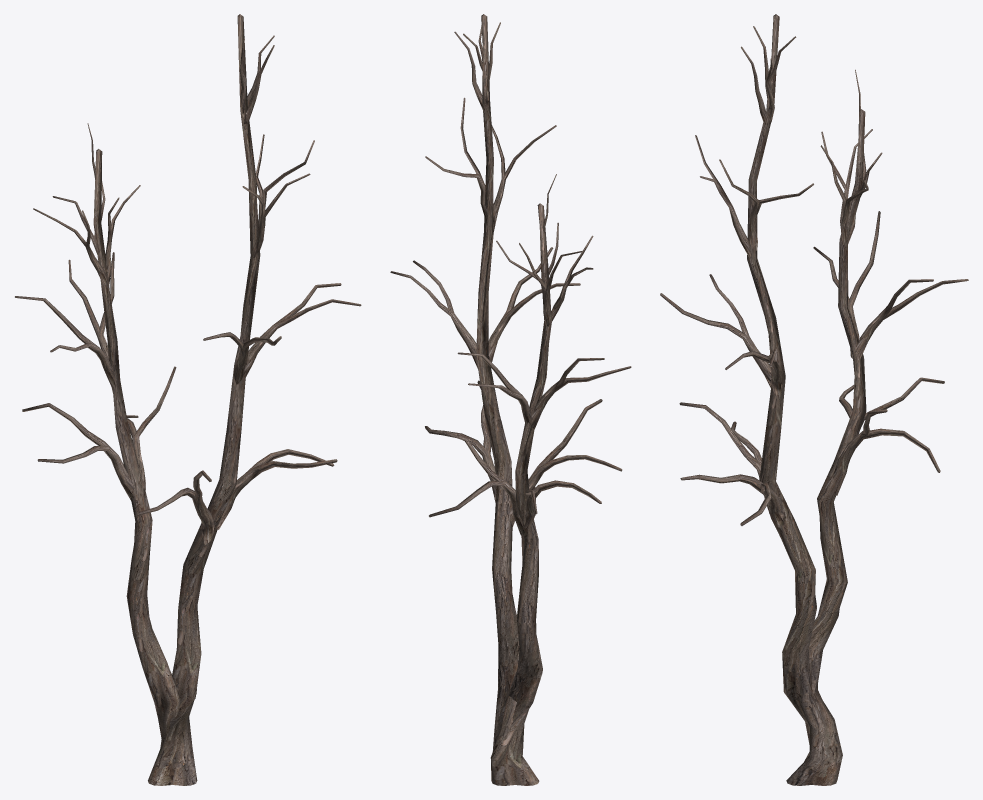
The model's file is tree5.obj.
3 renders of one model, left to right at view 1: azimuth 30°, elevation 25°; view 2: azimuth 150°, elevation 25°; view 3: azimuth 270°, elevation 25°, orthographic. The views are drawn at different scales.
Parts seen in each view (by area): view 1: tree; view 2: tree; view 3: tree.
Boxes of the visible parts, bbox=[...] form: tree: bbox=[15, 14, 361, 785]; tree: bbox=[390, 14, 631, 785]; tree: bbox=[660, 14, 968, 785].
Bounding box in the file's own units: 29.82 × 79.51 × 28.2.
Materials: 1 (1 with a texture image).
